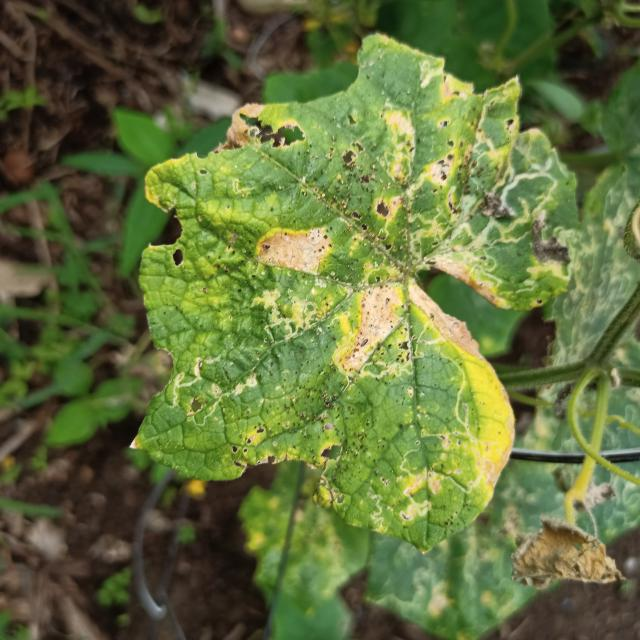disease_cucumber: (406, 284, 523, 514), (333, 282, 397, 371), (249, 227, 336, 278)
